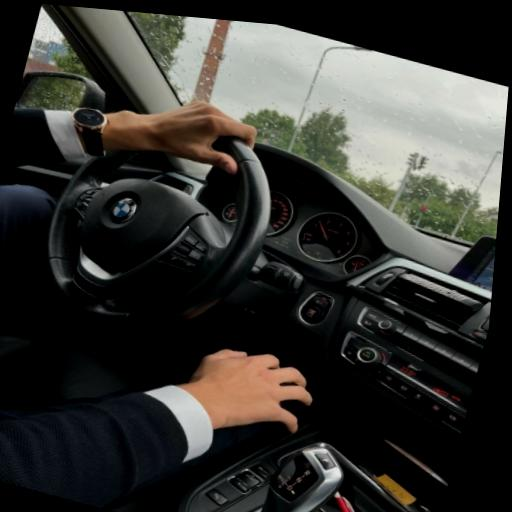Hands-on-the-Wheel: (84, 51, 300, 197)
